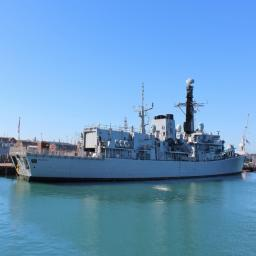Fragata: (9, 75, 247, 188)
